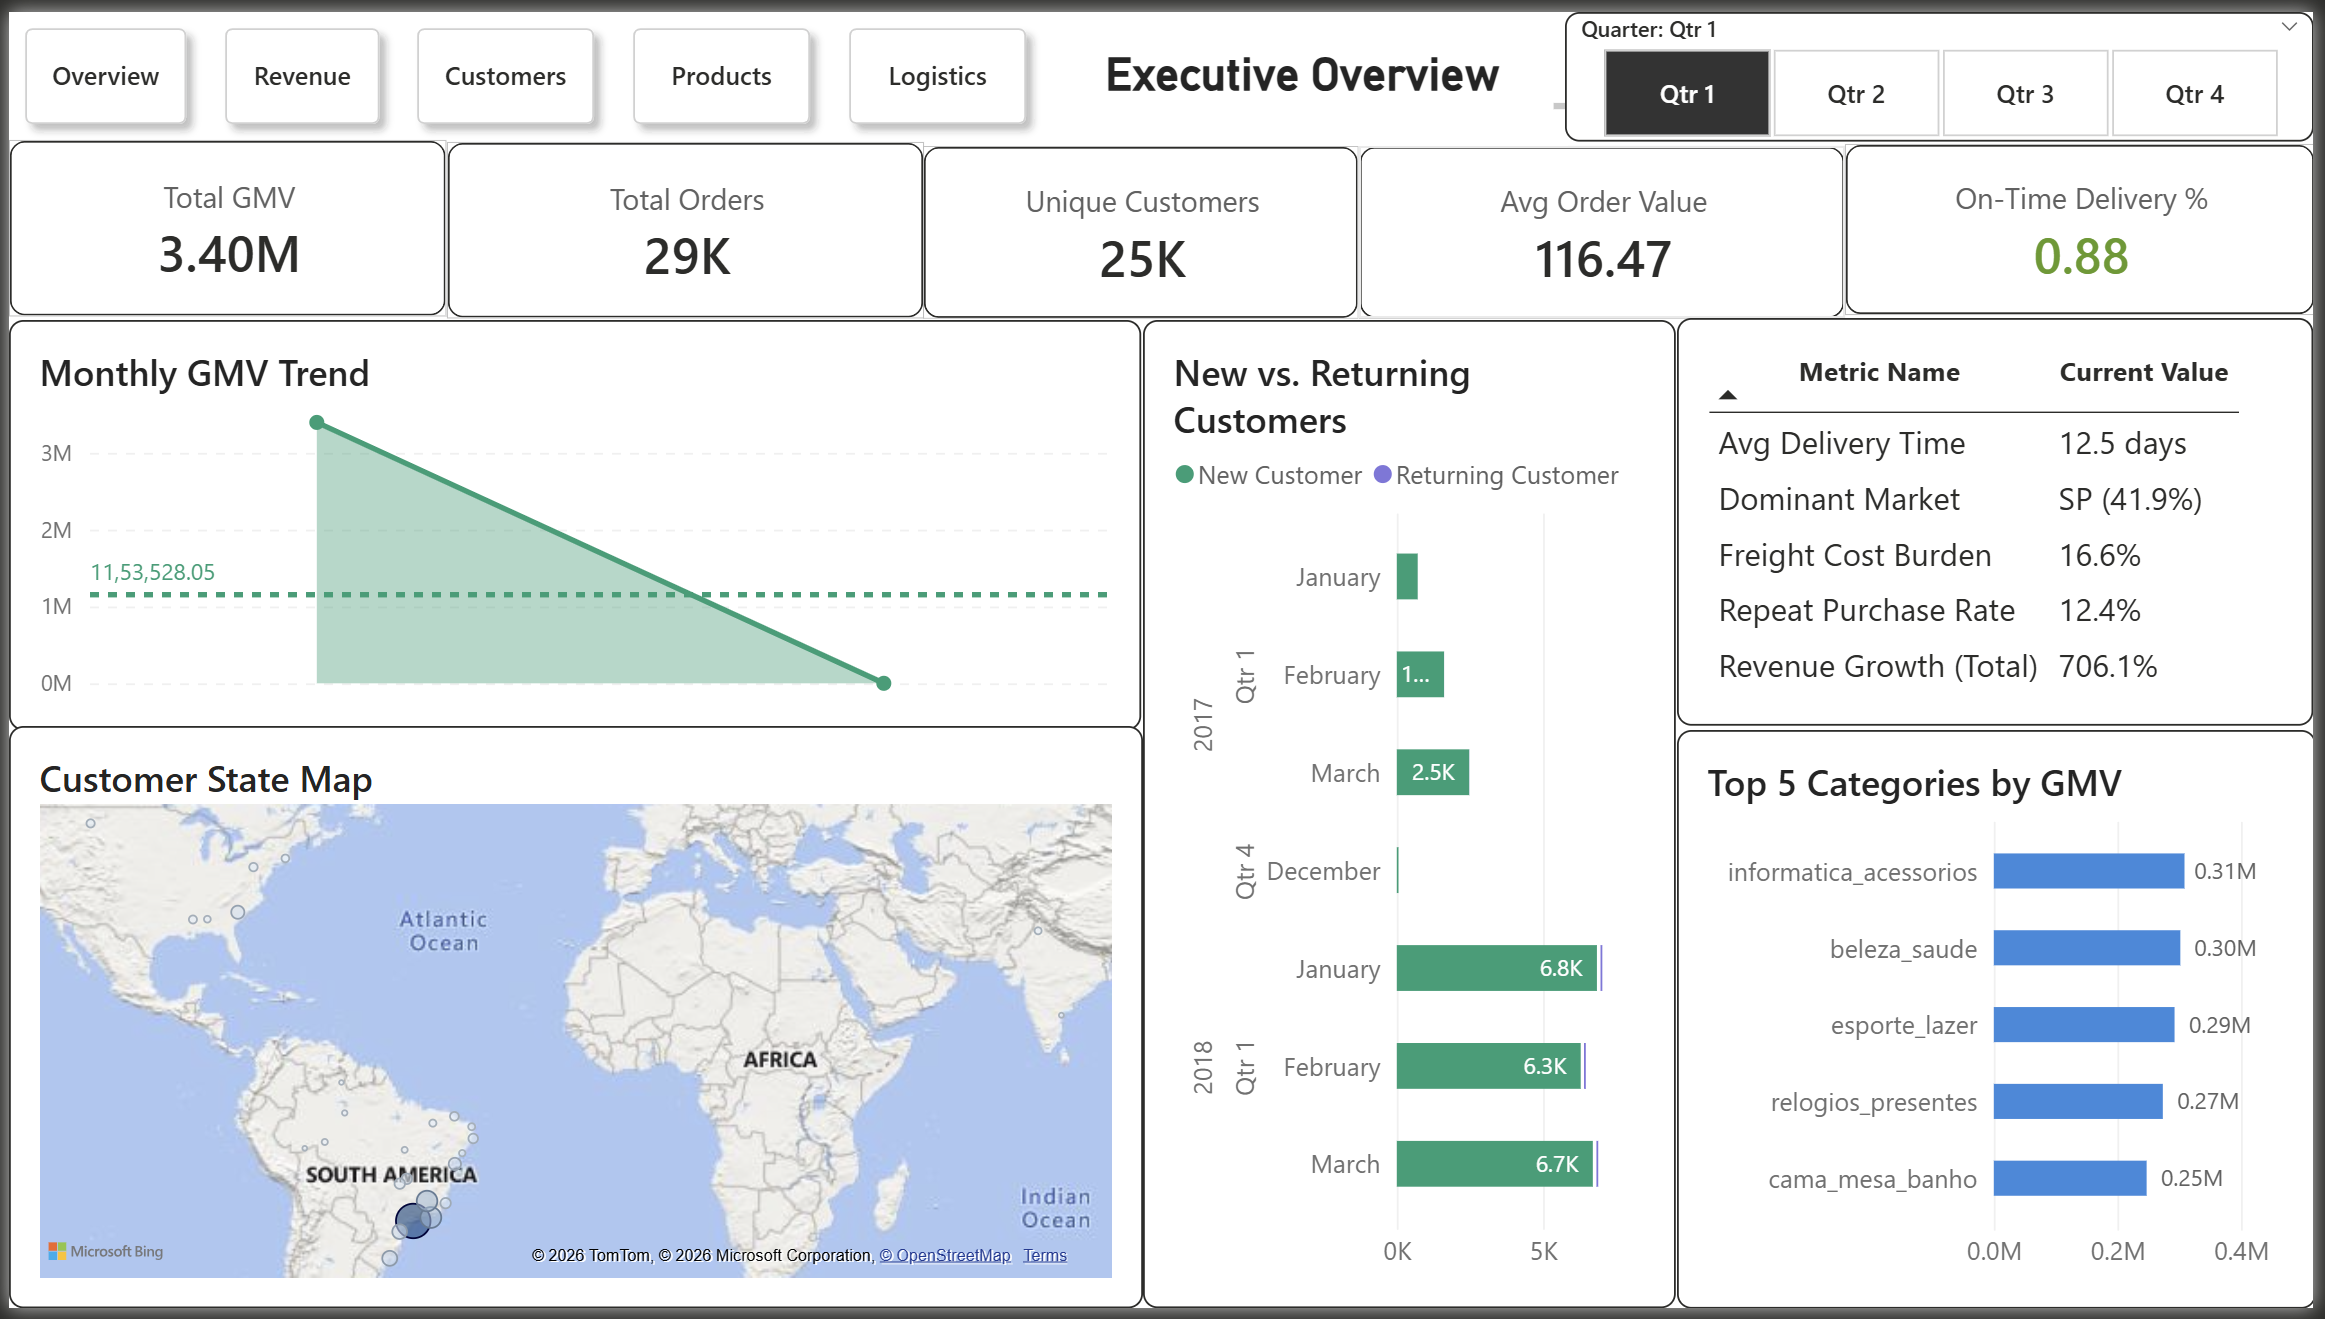

This screenshot's page, from the dashboard's own definition file:
{"tool":"powerbi","page":{"name":"Executive Overview","canvas":[1280,720],"ordinal":0},"visuals":[{"type":"textbox","title":"Executive Overview","box":[571,0,295,73.8],"z":0},{"type":"actionButton","title":"Overview","box":[0,0.5,107.5,71.2],"z":1000},{"type":"cardVisual","fields":{"Data":["delivered_orders.Total GMV"]},"box":[0,71.7,243.4,98.7],"z":2000},{"type":"actionButton","title":"Overview","box":[110.9,0.5,103.8,71.2],"z":3000},{"type":"cardVisual","fields":{"Data":["DateTable.On-Time Delivery %"]},"box":[1020,73.3,261.7,95],"z":4000},{"type":"actionButton","title":"Overview","box":[218.1,0.5,116.2,71.2],"z":5000},{"type":"cardVisual","fields":{"Data":["DateTable.Total Orders"]},"box":[243.3,71.7,265,98.3],"z":6000},{"type":"actionButton","title":"Overview","box":[337.8,0.5,116.2,71.2],"z":7000},{"type":"cardVisual","fields":{"Data":["DateTable.Unique Customers"]},"box":[508,74,242,96],"z":8000},{"type":"actionButton","title":"Overview","box":[457.5,0.5,116.2,71.2],"z":9000},{"type":"cardVisual","fields":{"Data":["DateTable.Avg Order Value"]},"box":[750,74,270,96],"z":10000},{"type":"barChart","title":"New vs. Returning Customers","fields":{"Y":["DateTable.Unique Customers"],"Series":["delivered_orders.customer_type"],"Category":["delivered_orders.order_month_name.Variation.Date Hierarchy.Year","delivered_orders.order_month_name.Variation.Date Hierarchy.Quarter","delivered_orders.order_month_name.Variation.Date Hierarchy.Month","delivered_orders.order_month_name.Variation.Date Hierarchy.Day"]},"box":[630,171,296,549],"z":11000},{"type":"areaChart","title":"Monthly GMV Trend","fields":{"Category":["DateTable.MonthName"],"Y":["delivered_orders.Total GMV"]},"box":[0,171,629,228],"z":12000},{"type":"clusteredBarChart","title":"Top 5 Categories by GMV","fields":{"Category":["delivered_orders.product_category"],"Y":["delivered_orders.Total GMV"]},"box":[926.7,398.3,355,321.7],"z":13000},{"type":"map","title":"Customer State Map","fields":{"Category":["delivered_orders.customer_state"],"Size":["delivered_orders.Unique Customers"]},"box":[0,396.7,630,323.3],"z":14000},{"type":"tableEx","fields":{"Values":["Executive_Summary_Table.Metric Name","Executive_Summary_Table.Current Value"]},"box":[926.7,170,353.3,226.7],"z":15000},{"type":"slicer","fields":{"Values":["delivered_orders.order_approved_at.Variation.Date Hierarchy.Quarter"]},"box":[864,0,416,72],"z":16000}]}

Visuals, with their boxes in screenshot pixels (x1, y1, x2, y2), scaled from the page's 1280x720 canvas onto the 2325x1319 screenshot:
"Executive Overview" textbox: bbox(1037, 0, 1573, 135)
"Overview" actionButton: bbox(0, 1, 195, 131)
cardVisual - delivered_orders.Total GMV: bbox(0, 131, 442, 312)
"Overview" actionButton: bbox(201, 1, 390, 131)
cardVisual - DateTable.On-Time Delivery %: bbox(1853, 134, 2324, 308)
"Overview" actionButton: bbox(396, 1, 607, 131)
cardVisual - DateTable.Total Orders: bbox(442, 131, 923, 311)
"Overview" actionButton: bbox(614, 1, 825, 131)
cardVisual - DateTable.Unique Customers: bbox(923, 136, 1362, 311)
"Overview" actionButton: bbox(831, 1, 1042, 131)
cardVisual - DateTable.Avg Order Value: bbox(1362, 136, 1853, 311)
"New vs. Returning Customers" barChart: bbox(1144, 313, 1682, 1318)
"Monthly GMV Trend" areaChart: bbox(0, 313, 1143, 731)
"Top 5 Categories by GMV" clusteredBarChart: bbox(1683, 730, 2324, 1318)
"Customer State Map" map: bbox(0, 727, 1144, 1318)
tableEx - Executive_Summary_Table.Metric Name x Executive_Summary_Table.Current Value: bbox(1683, 311, 2324, 727)
slicer - delivered_orders.order_approved_at.Variation.Date Hierarchy.Quarter: bbox(1569, 0, 2324, 132)
